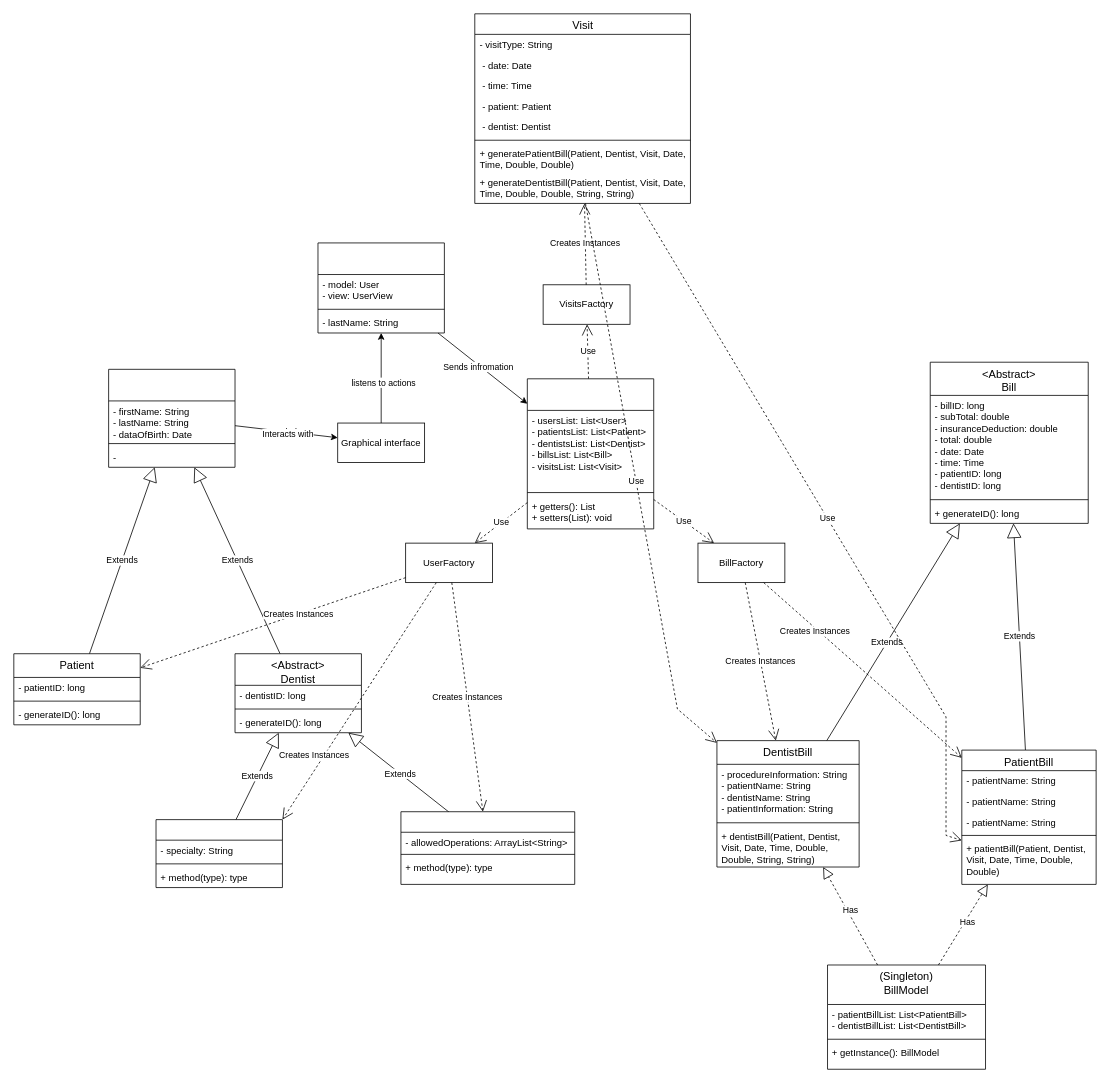
The diagram is 1110 pixels wide and 1085 high, and some of its shapes have lost their labels. The box of each missing label's shape, as (x1, y1, x2, y2) in pixels:
(singleton) Clinic System: (527, 378, 654, 529)
<Abstract> User: (108, 369, 235, 467)
ApprenticeDentist: (400, 811, 575, 884)
RegularDentist: (155, 819, 282, 888)
UserController: (317, 242, 444, 333)
